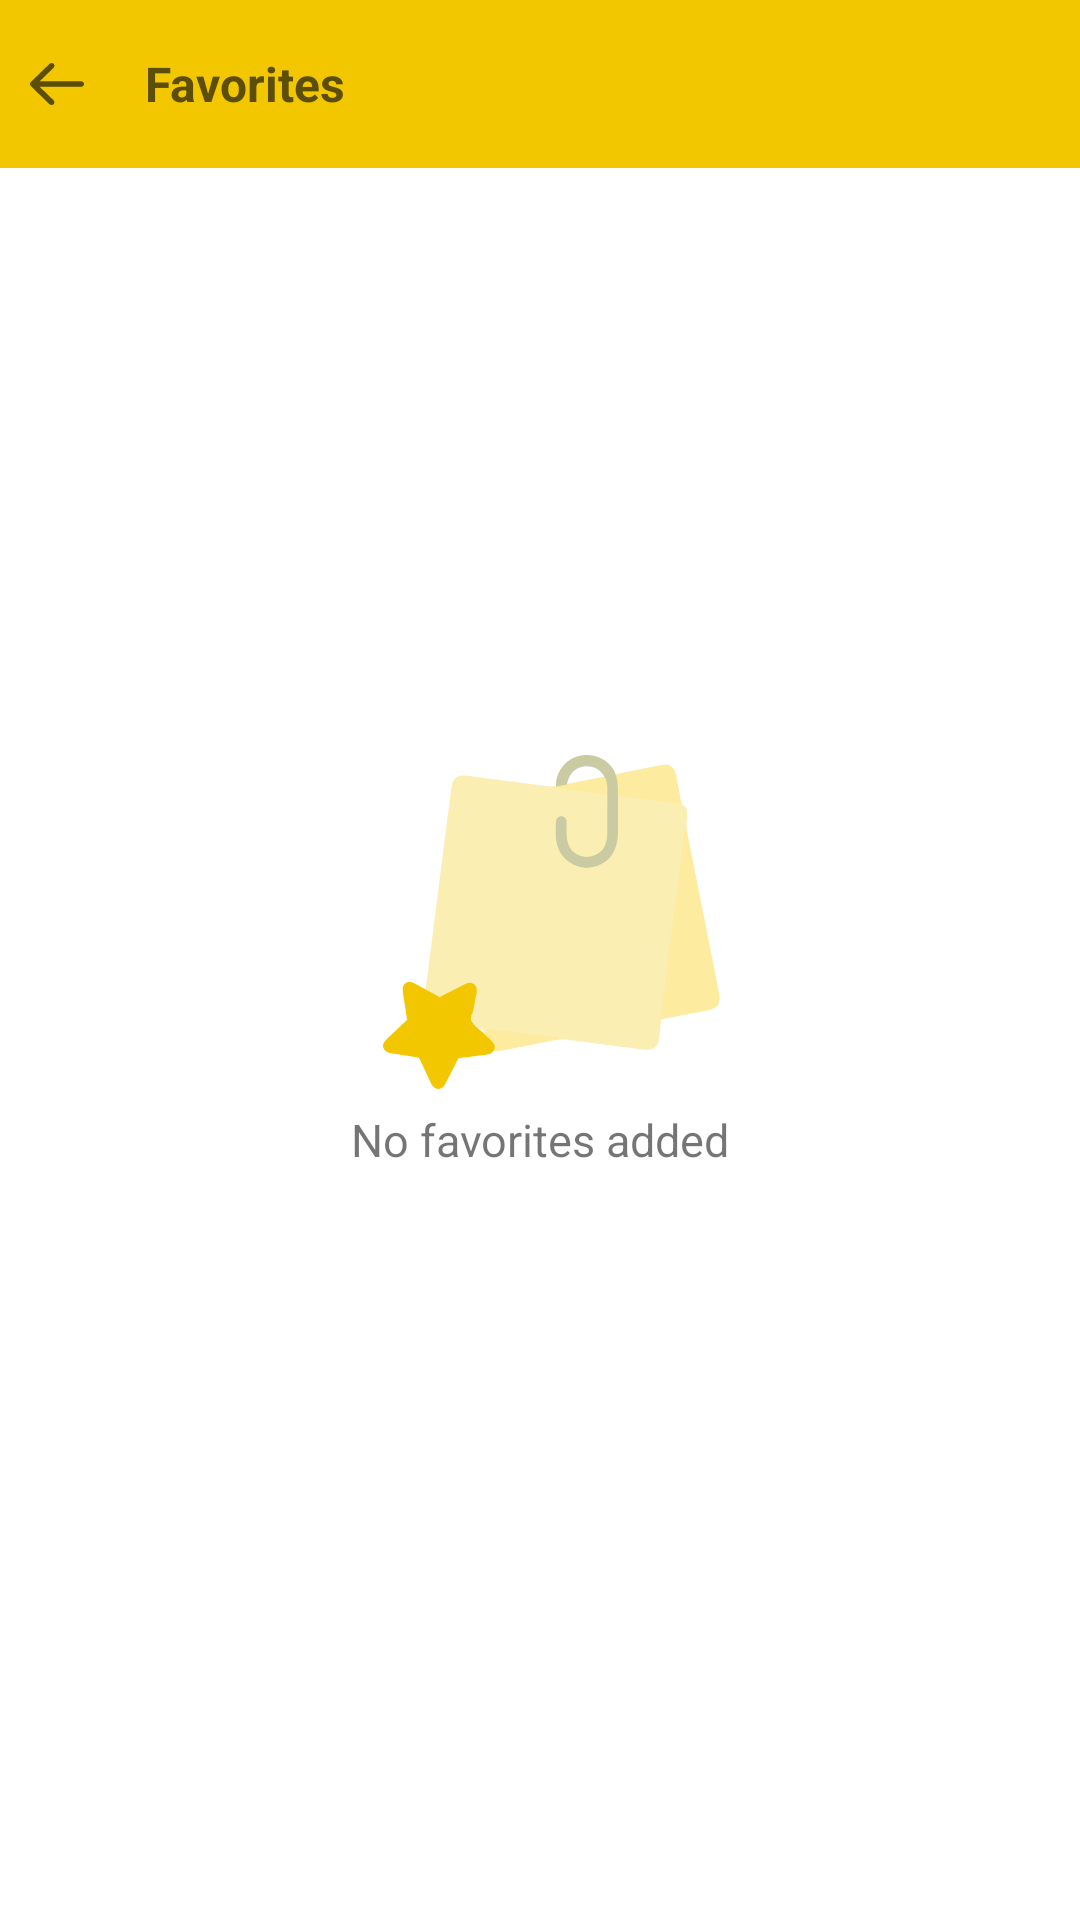

Where icons sit on this 1080 × 1920 app screen, as (x1, y1, x2, y2):
back: (30, 63, 84, 105)
